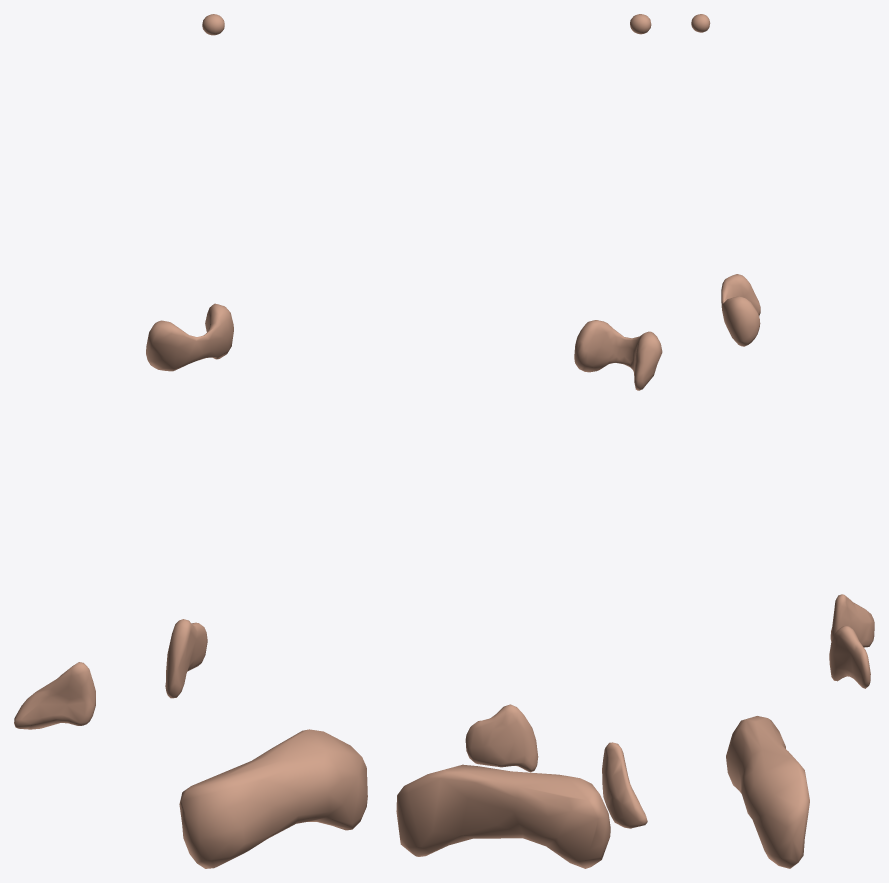
File: pediatric_child_5y_female.endocrine.LOD1.glb
3 views of the same model, side by side, from view 1: azimuth 30°, elevation 25°; view 2: azimuth 150°, elevation 25°; view 3: azimuth 270°, elevation 25° (orthographic). The views are drawn at different scales.
Parts seen in each view (by area): view 1: PEDIATRIC.CHILD_5Y.FEMALE.ENDOCRINE.PANCREAS, PEDIATRIC.CHILD_5Y.FEMALE.ENDOCRINE.THYROID, PEDIATRIC.CHILD_5Y.FEMALE.ENDOCRINE.ADRENAL.R, PEDIATRIC.CHILD_5Y.FEMALE.ENDOCRINE.ADRENAL.L; view 2: PEDIATRIC.CHILD_5Y.FEMALE.ENDOCRINE.PANCREAS, PEDIATRIC.CHILD_5Y.FEMALE.ENDOCRINE.THYROID, PEDIATRIC.CHILD_5Y.FEMALE.ENDOCRINE.ADRENAL.L, PEDIATRIC.CHILD_5Y.FEMALE.ENDOCRINE.ADRENAL.R; view 3: PEDIATRIC.CHILD_5Y.FEMALE.ENDOCRINE.PANCREAS, PEDIATRIC.CHILD_5Y.FEMALE.ENDOCRINE.THYROID, PEDIATRIC.CHILD_5Y.FEMALE.ENDOCRINE.ADRENAL.L, PEDIATRIC.CHILD_5Y.FEMALE.ENDOCRINE.ADRENAL.R.
Part boxes in pixels (left/top/right/bottom): PEDIATRIC.CHILD_5Y.FEMALE.ENDOCRINE.PANCREAS: left=179, top=729, right=367, bottom=868; PEDIATRIC.CHILD_5Y.FEMALE.ENDOCRINE.THYROID: left=146, top=303, right=233, bottom=371; PEDIATRIC.CHILD_5Y.FEMALE.ENDOCRINE.ADRENAL.R: left=14, top=662, right=95, bottom=729; PEDIATRIC.CHILD_5Y.FEMALE.ENDOCRINE.ADRENAL.L: left=165, top=619, right=207, bottom=698; PEDIATRIC.CHILD_5Y.FEMALE.ENDOCRINE.PANCREAS: left=396, top=764, right=610, bottom=868; PEDIATRIC.CHILD_5Y.FEMALE.ENDOCRINE.THYROID: left=574, top=320, right=662, bottom=390; PEDIATRIC.CHILD_5Y.FEMALE.ENDOCRINE.ADRENAL.L: left=465, top=704, right=538, bottom=772; PEDIATRIC.CHILD_5Y.FEMALE.ENDOCRINE.ADRENAL.R: left=602, top=742, right=647, bottom=828; PEDIATRIC.CHILD_5Y.FEMALE.ENDOCRINE.PANCREAS: left=726, top=716, right=809, bottom=868; PEDIATRIC.CHILD_5Y.FEMALE.ENDOCRINE.THYROID: left=721, top=274, right=760, bottom=346; PEDIATRIC.CHILD_5Y.FEMALE.ENDOCRINE.ADRENAL.L: left=829, top=626, right=870, bottom=688; PEDIATRIC.CHILD_5Y.FEMALE.ENDOCRINE.ADRENAL.R: left=830, top=594, right=874, bottom=647.
Bounding box in the file's own units: 0.1277 × 0.3545 × 0.0762.
